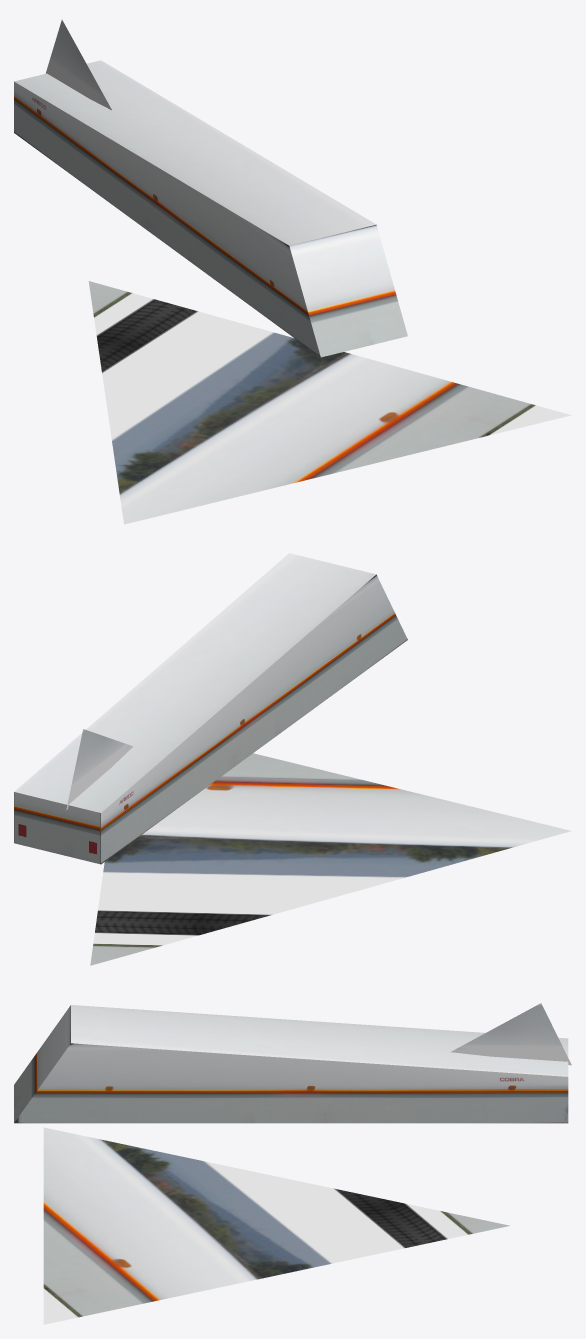
The model's file is glider-trailer-orange-9m-cbj_LOD04.gltf.
3 views of the same model, one above another, from view 1: azimuth 30°, elevation 25°; view 2: azimuth 150°, elevation 25°; view 3: azimuth 270°, elevation 25° (orthographic). The views are drawn at different scales.
Parts seen in each view (by area): view 1: trailer04; view 2: trailer04; view 3: trailer04.
Boxes of the visible parts, x1,y1,x2,y2 form: trailer04: (14,20,571,524); trailer04: (14,553,571,965); trailer04: (14,1003,571,1324).
Size of the model in its own units: 7 by 3.76 by 8.36.
